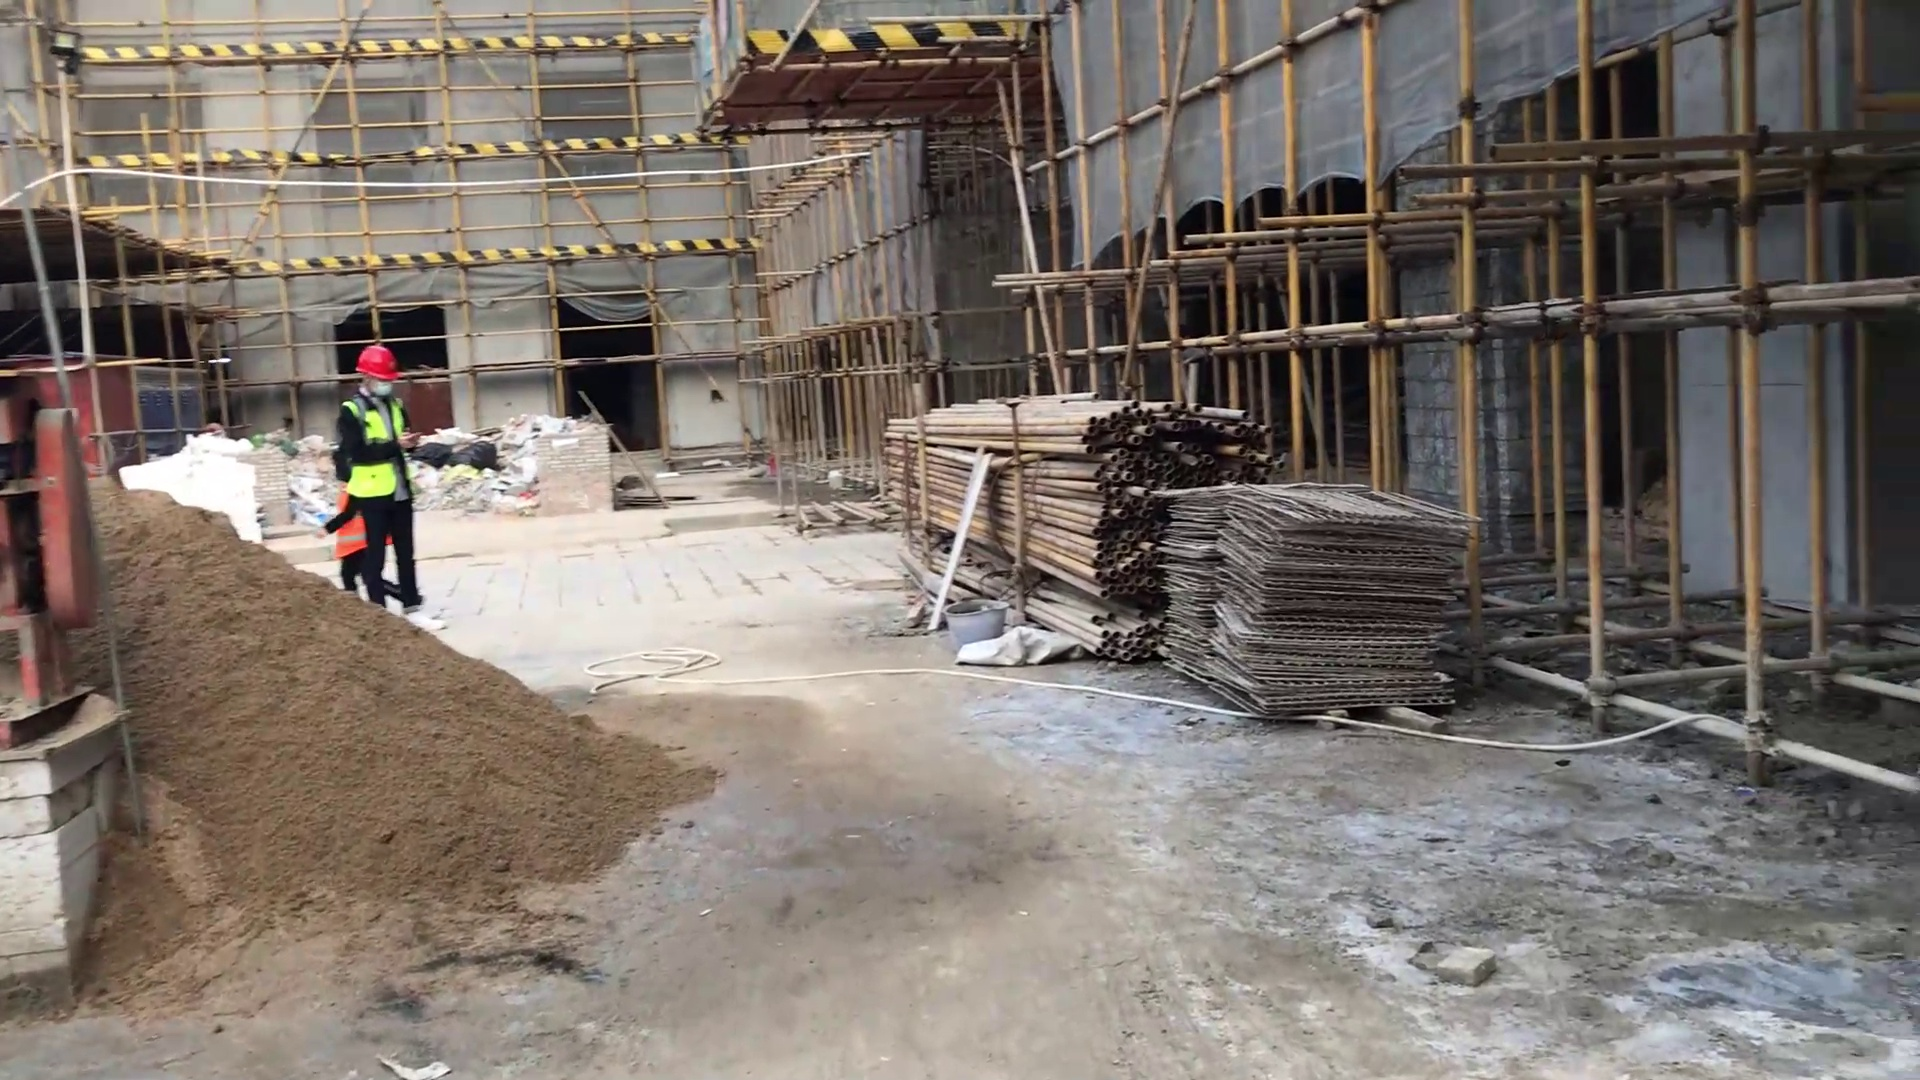helmet: (341, 335, 407, 382)
person: (341, 332, 432, 627)
vest: (341, 395, 415, 512), (334, 509, 374, 560)
